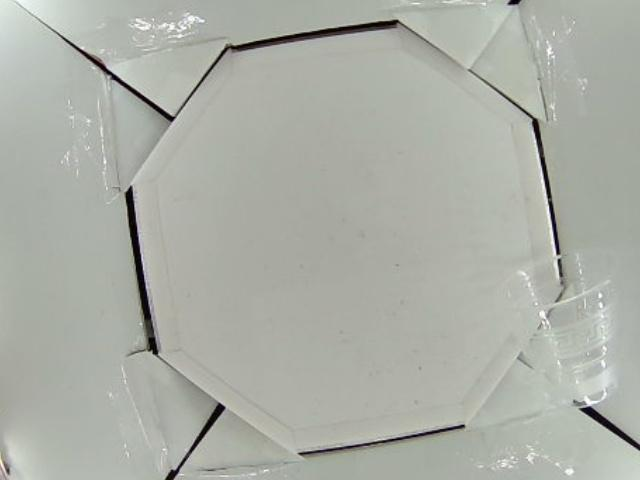Cup: (501, 247, 621, 411)
